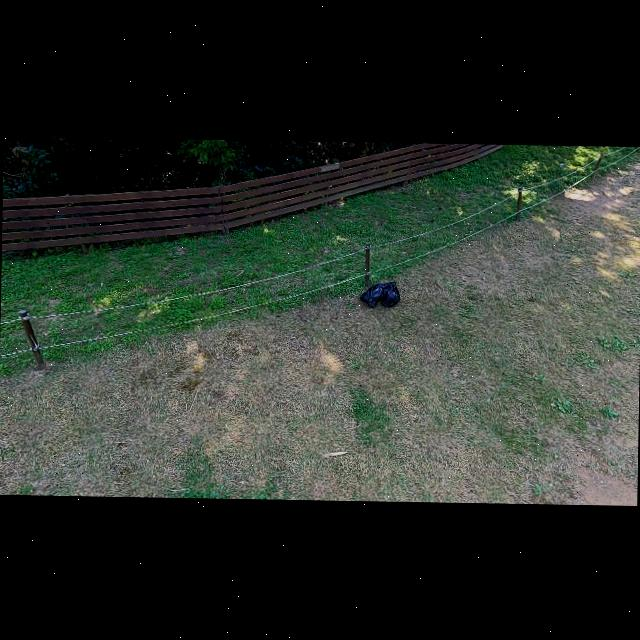trash: (359, 278, 388, 308), (384, 279, 406, 308)
